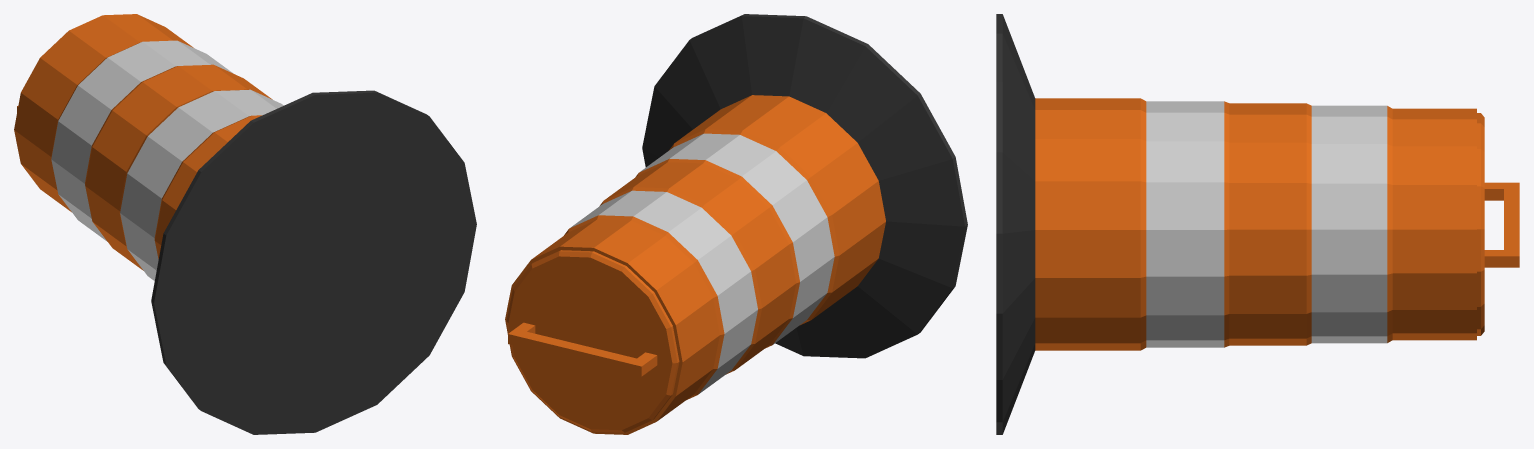
The model's file is Construction_Sign_03.fbx.
The picture shows the model from 3 angles, left to right: view 1: azimuth 30°, elevation 25°; view 2: azimuth 150°, elevation 25°; view 3: azimuth 270°, elevation 25°; orthographic projection. The views are drawn at different scales.
Parts seen in each view (by area): view 1: Construction_Sign_03; view 2: Construction_Sign_03; view 3: Construction_Sign_03.
Boxes of the visible parts, x1,y1,x2,y2 form: Construction_Sign_03: (14,14,476,434); Construction_Sign_03: (505,14,967,434); Construction_Sign_03: (996,14,1519,434).
Bounding box in the file's own units: 0.8836 × 0.8836 × 1.1.
